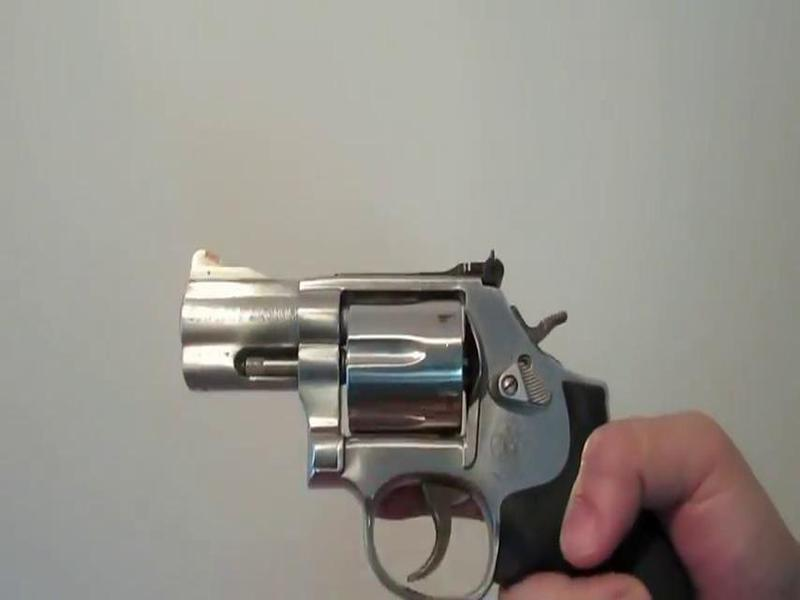Revolver: (157, 213, 687, 573)
